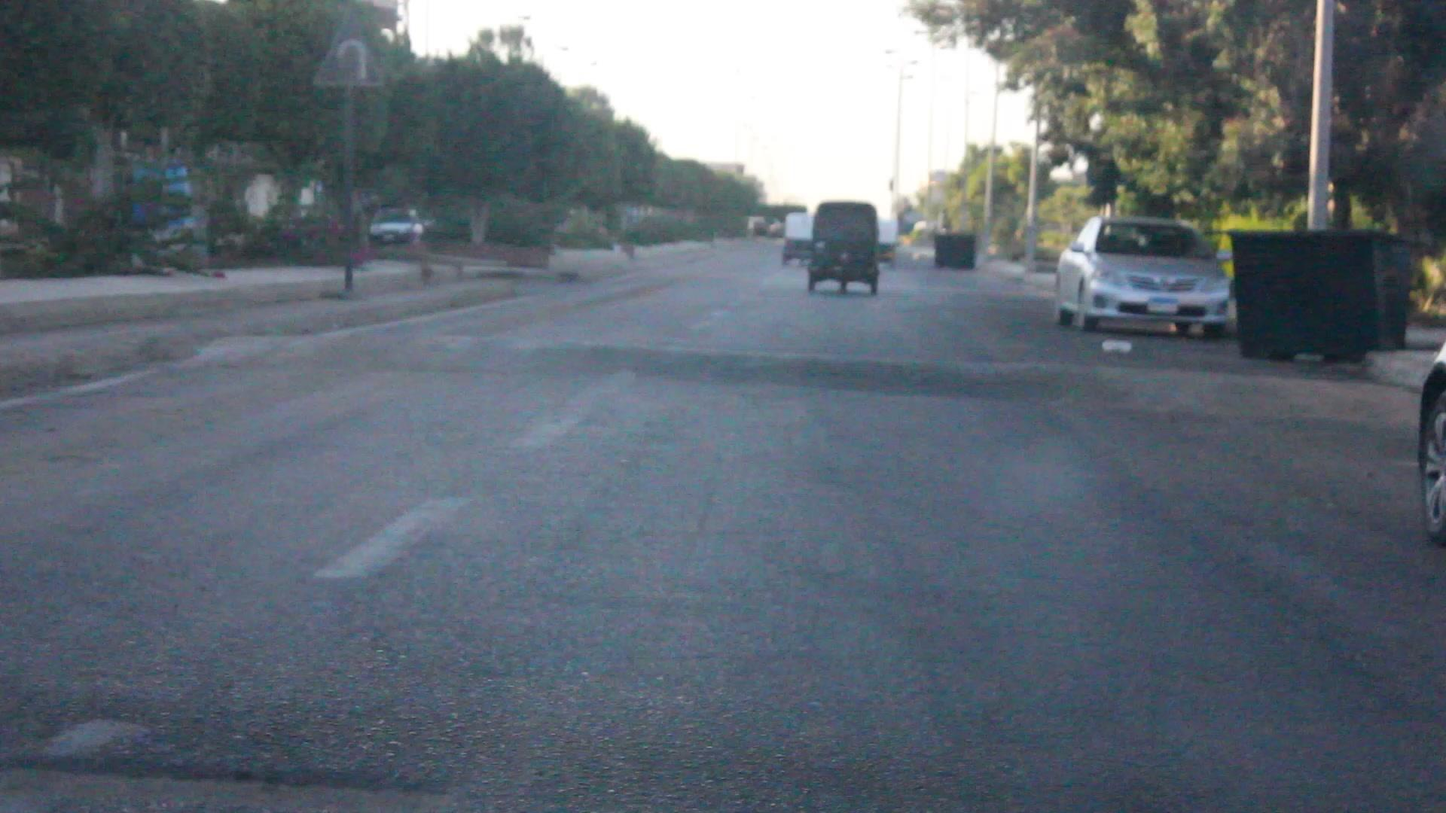Bump: (224, 331, 1416, 425)
